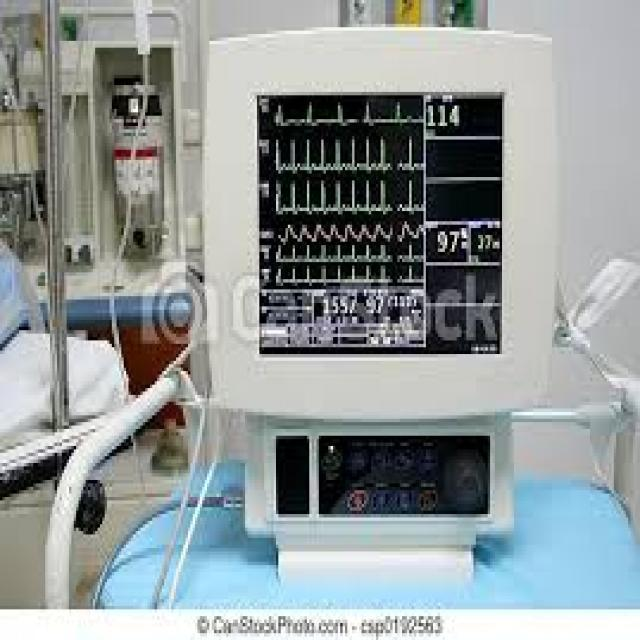cardiac_monitor: (207, 47, 559, 454)
